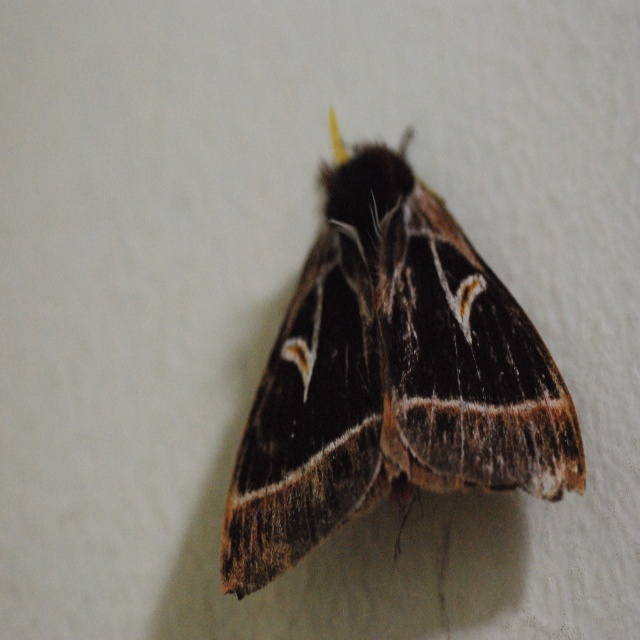Moths and butterflies: (221, 106, 588, 633)
